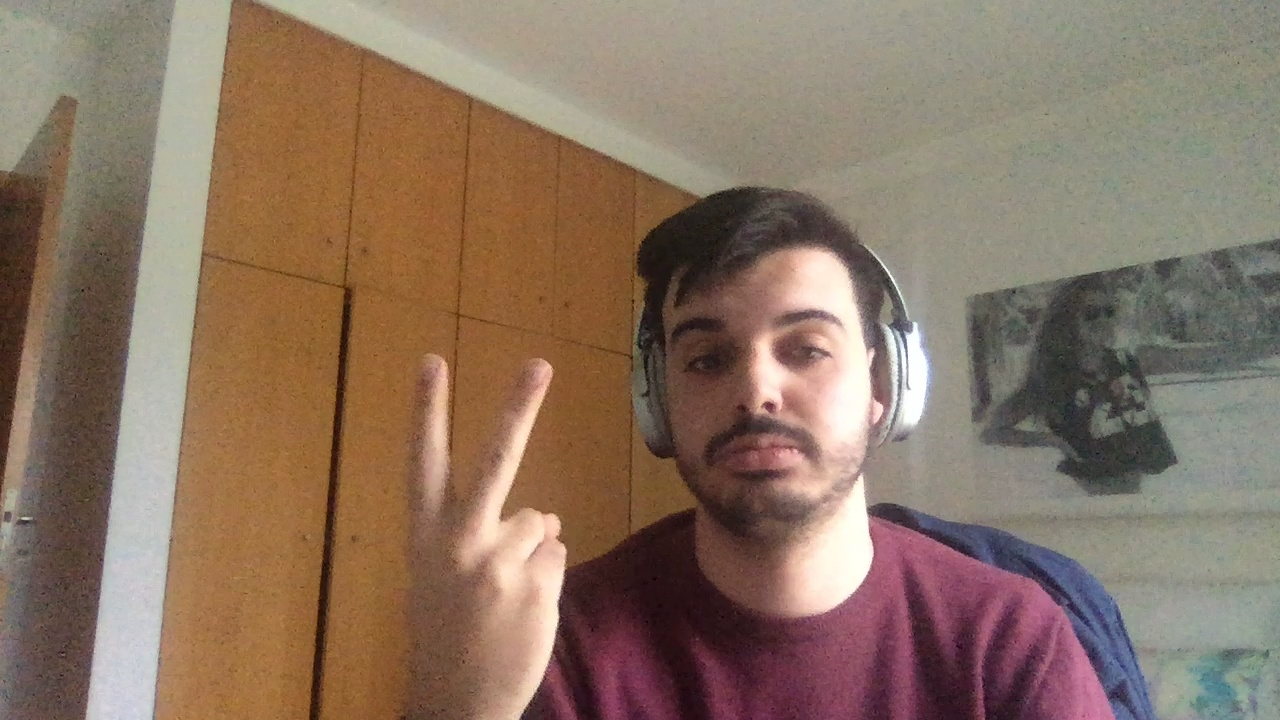Peace: (411, 352, 563, 661)
